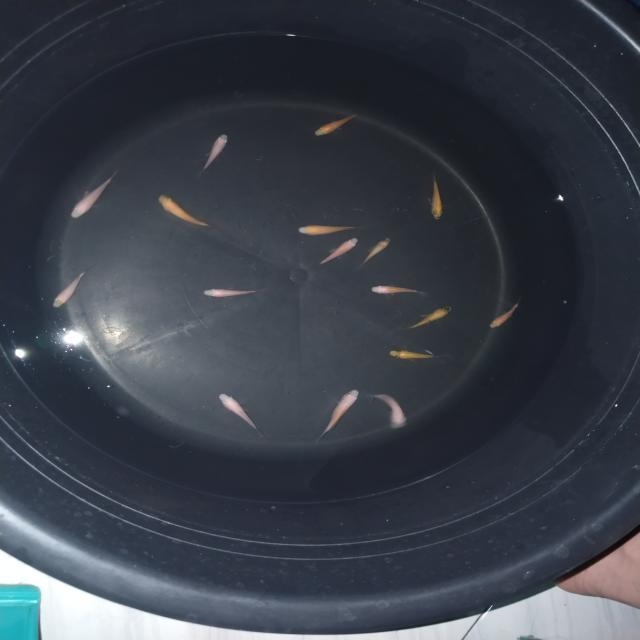nila: (68, 168, 122, 222), (152, 192, 224, 230), (316, 386, 362, 445), (217, 391, 266, 436), (306, 235, 364, 270), (365, 391, 411, 431), (310, 108, 368, 138), (400, 302, 456, 333), (49, 270, 92, 310), (198, 128, 235, 174), (486, 296, 526, 332), (359, 232, 396, 268), (424, 170, 447, 226), (386, 347, 457, 364), (294, 221, 368, 236), (369, 282, 432, 299), (198, 286, 265, 299)
